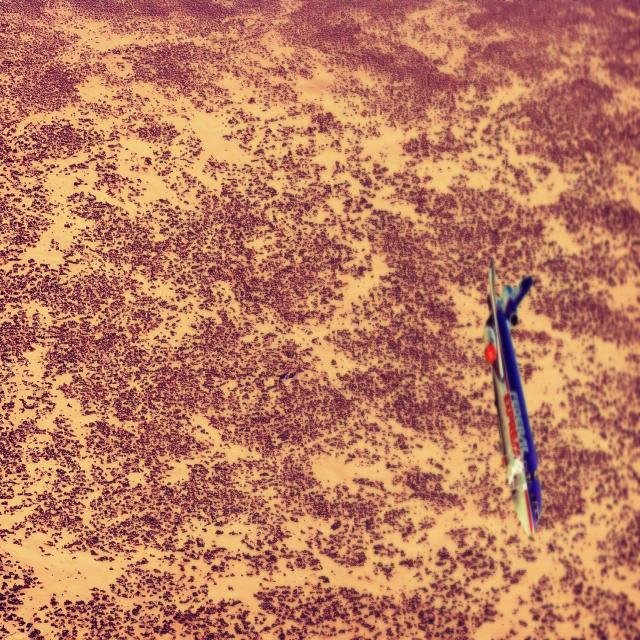airplane: (483, 259, 542, 539)
